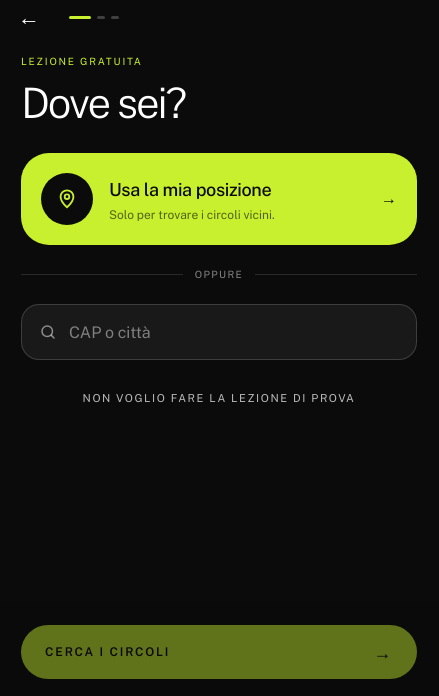
Lezione gratuita: dove sei › asks for CAP or city when the position is not allowed
The image size is (439, 696).
Click the button "Usa la mia posizione Solo per trovare i circoli vicini. →". click: (219, 199)
box: [21,153,417,245]
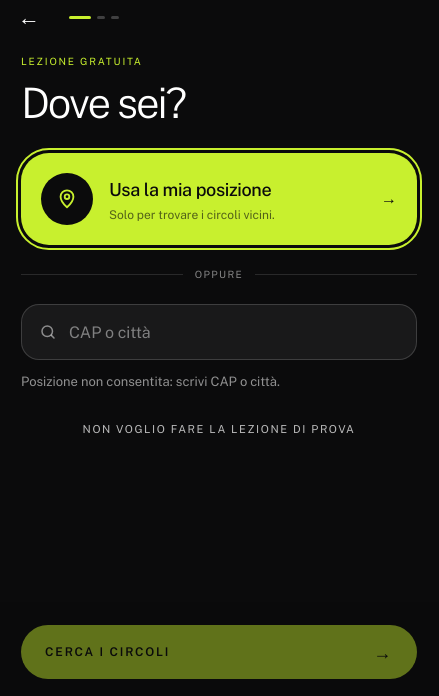
Check: the heading "Dove sei?" is shown, box [21,78,185,127]
Check: the text "Posizione non consentita: scrivi CAP o città." is shown, box [21,374,280,389]
